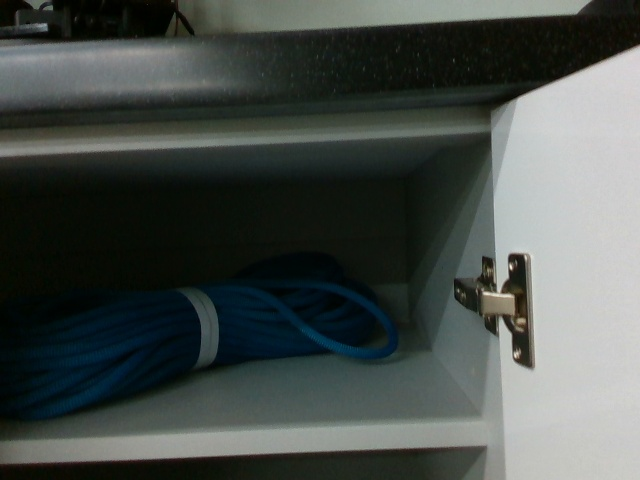rope: (6, 276, 398, 414)
